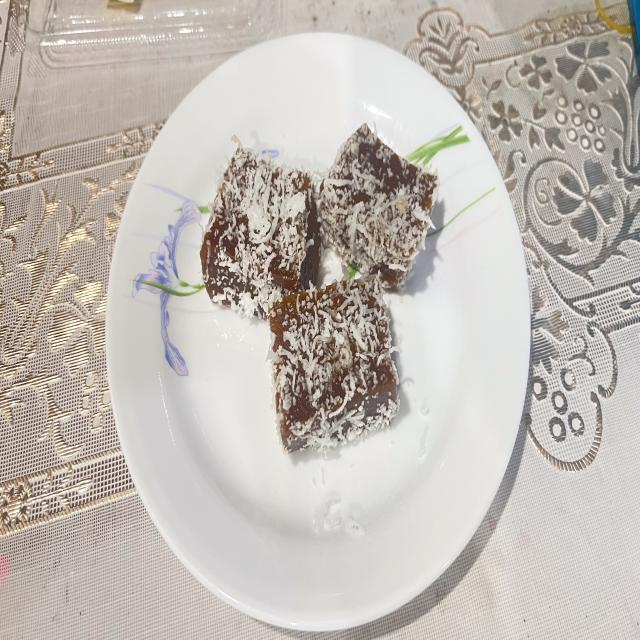kaswi: (269, 276, 399, 451), (200, 142, 320, 318), (319, 124, 439, 289)
